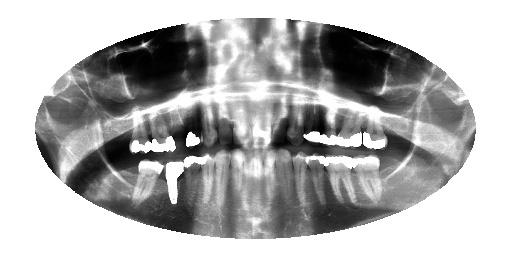i10healthy: (230, 150, 245, 216)
i11healthy: (212, 151, 230, 208)
i12healthy: (202, 153, 212, 207)
i13healthy: (184, 154, 203, 216)
i14healthy: (165, 160, 185, 209)
i15healthy: (130, 160, 164, 206)
i16loss: (112, 161, 131, 194)
i1loss: (380, 157, 404, 189)
i2healthy: (352, 157, 383, 207)
i3healthy: (324, 152, 355, 209)
i4healthy: (305, 152, 330, 214)
i5healthy: (292, 152, 311, 222)
i6decay: (276, 149, 297, 212)
i7healthy: (263, 151, 278, 211)
i8healthy: (254, 150, 264, 216)
i9healthy: (243, 149, 254, 222)
u10decay: (218, 102, 233, 149)
u11decay: (200, 103, 219, 150)
u12loss: (185, 105, 202, 151)
u13loss: (170, 108, 189, 151)
u14healthy: (151, 112, 174, 154)
u15healthy: (130, 113, 154, 155)
u16loss: (113, 116, 130, 152)
u1loss: (386, 126, 402, 148)
u2healthy: (362, 116, 385, 150)
u3healthy: (337, 109, 360, 148)
u4healthy: (320, 104, 337, 147)
u5healthy: (302, 100, 323, 145)
u6decay: (287, 97, 305, 147)
u7chipped: (272, 96, 289, 146)
u8healthy: (252, 96, 272, 149)
u9healthy: (234, 96, 253, 147)
